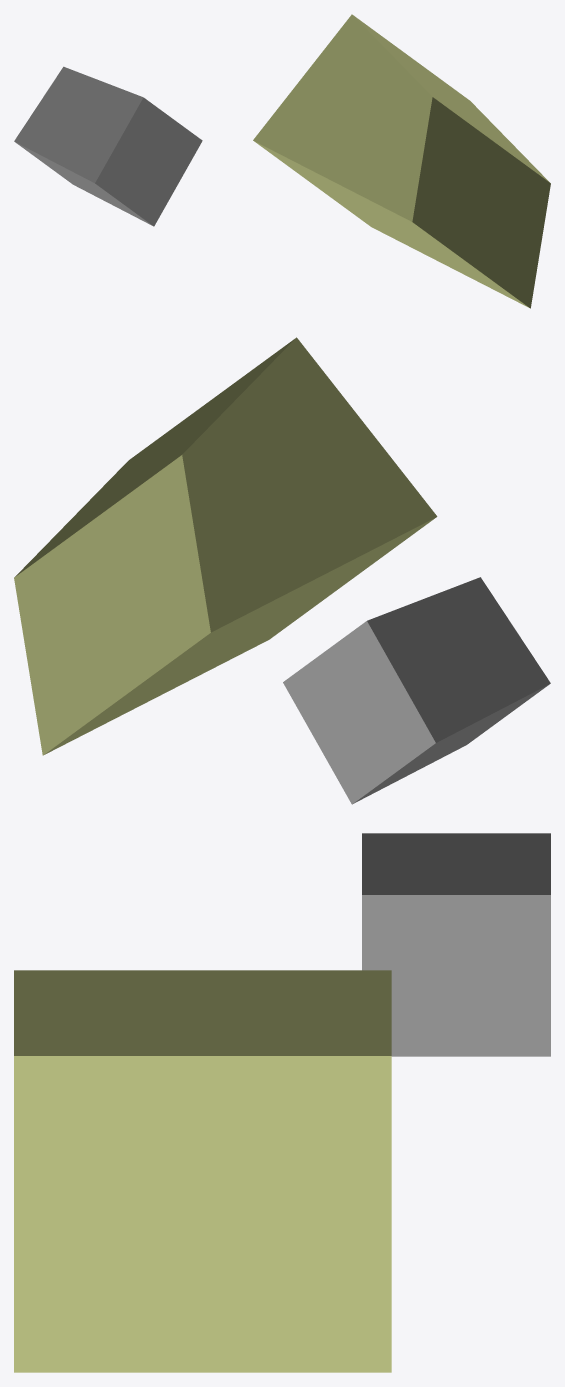
The picture shows the model from 3 angles, top to bottom: view 1: azimuth 30°, elevation 25°; view 2: azimuth 150°, elevation 25°; view 3: azimuth 270°, elevation 25°; orthographic projection. The views are drawn at different scales.
Visible parts, largest first — view 1: 0_1_2_0_0_2_2_1; view 2: 0_1_2_0_0_2_2_1; view 3: 0_1_2_0_0_2_2_1.
Part boxes in pixels (left/top/right/bottom): 0_1_2_0_0_2_2_1: left=14, top=14, right=550, bottom=308; 0_1_2_0_0_2_2_1: left=14, top=337, right=550, bottom=804; 0_1_2_0_0_2_2_1: left=14, top=833, right=550, bottom=1372.
Bounding box in the file's own units: 10.79 × 6.23 × 8.53.
